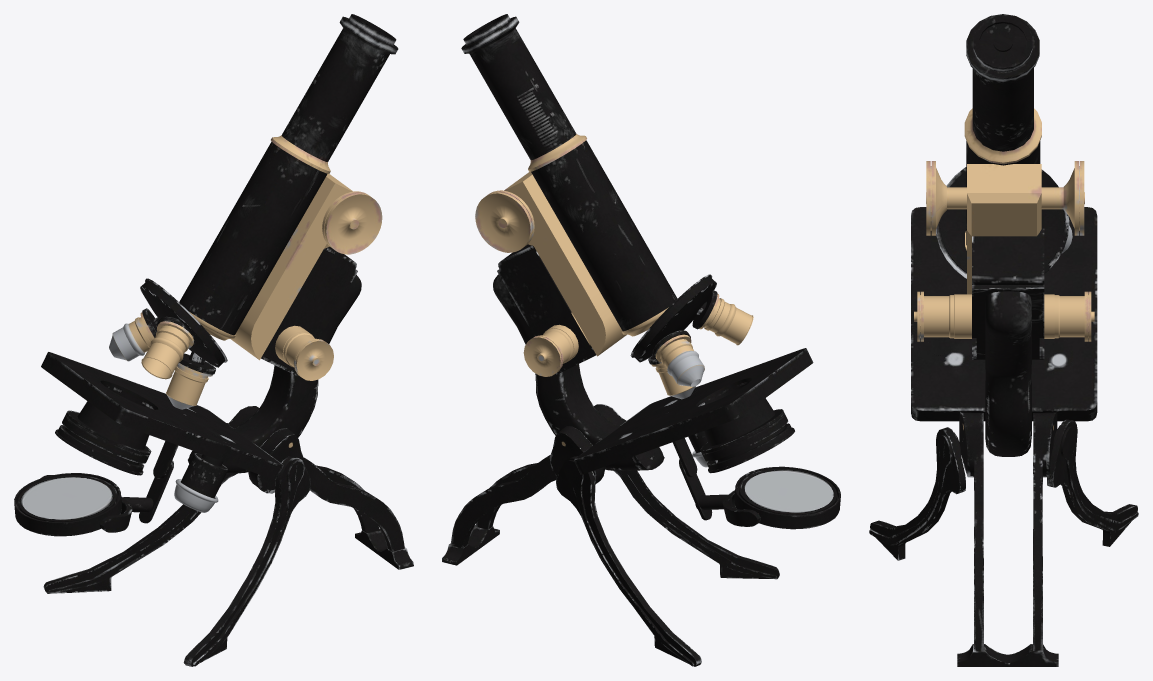
File: microscope.glb
3 views of the same model, side by side, from view 1: azimuth 30°, elevation 25°; view 2: azimuth 150°, elevation 25°; view 3: azimuth 270°, elevation 25° (orthographic). The views are drawn at different scales.
Visible parts, largest first — view 1: Lower_cylinder_low, Micro_Plate_low, Front_legs_low, Upper_cylinder_low, Golden_square_low, Mirror_low, Back_legs_low, Main_handle_low, Brown_box_low, Top_Handles_low, Fat_Lens_low, Lower_Handles_low (+10 smaller); view 2: Lower_cylinder_low, Micro_Plate_low, Front_legs_low, Upper_cylinder_low, Golden_square_low, Mirror_low, Main_handle_low, Back_legs_low, Brown_box_low, Top_Handles_low, Fat_Lens_low, Concave_Plate_low (+8 smaller); view 3: Micro_Plate_low, Main_handle_low, Front_legs_low, Back_legs_low, Brown_box_low, Golden_square_low, Lower_Handles_low, Upper_cylinder_low, Eyepiece_lid_low, Top_Handles_low, Concave_Plate_low, Back_leg_holder_low (+2 smaller).
Boxes of the visible parts, left/top/right/bottom form: Lower_cylinder_low: left=179, top=141, right=327, bottom=335; Micro_Plate_low: left=41, top=352, right=283, bottom=480; Front_legs_low: left=43, top=423, right=310, bottom=666; Upper_cylinder_low: left=281, top=28, right=389, bottom=161; Golden_square_low: left=231, top=173, right=352, bottom=360; Mirror_low: left=14, top=473, right=121, bottom=536; Back_legs_low: left=228, top=406, right=404, bottom=551; Main_handle_low: left=188, top=274, right=361, bottom=473; Brown_box_low: left=261, top=246, right=357, bottom=376; Top_Handles_low: left=322, top=191, right=382, bottom=254; Fat_Lens_low: left=55, top=410, right=151, bottom=475; Lower_Handles_low: left=275, top=325, right=333, bottom=380; Lower_cylinder_low: left=531, top=140, right=677, bottom=331; Micro_Plate_low: left=573, top=348, right=813, bottom=474; Front_legs_low: left=556, top=419, right=779, bottom=666; Upper_cylinder_low: left=469, top=28, right=576, bottom=160; Golden_square_low: left=504, top=172, right=626, bottom=356; Mirror_low: left=734, top=466, right=840, bottom=529; Main_handle_low: left=493, top=251, right=664, bottom=470; Back_legs_low: left=450, top=404, right=625, bottom=548; Brown_box_low: left=497, top=244, right=595, bottom=374; Top_Handles_low: left=475, top=190, right=534, bottom=252; Fat_Lens_low: left=700, top=409, right=794, bottom=473; Concave_Plate_low: left=630, top=274, right=716, bottom=362; Micro_Plate_low: left=911, top=207, right=1097, bottom=421; Main_handle_low: left=985, top=291, right=1031, bottom=456; Front_legs_low: left=869, top=419, right=1138, bottom=560; Back_legs_low: left=959, top=412, right=1057, bottom=651; Brown_box_low: left=972, top=228, right=1044, bottom=359; Golden_square_low: left=967, top=164, right=1041, bottom=294; Lower_Handles_low: left=914, top=291, right=1094, bottom=341; Upper_cylinder_low: left=972, top=68, right=1033, bottom=151; Eyepiece_lid_low: left=966, top=14, right=1039, bottom=82; Top_Handles_low: left=926, top=161, right=1084, bottom=235; Concave_Plate_low: left=936, top=167, right=1069, bottom=278; Back_leg_holder_low: left=957, top=644, right=1058, bottom=666.
Size of the model in its own units: 1.41 by 2 by 0.759.
1 material, 1 textured.
